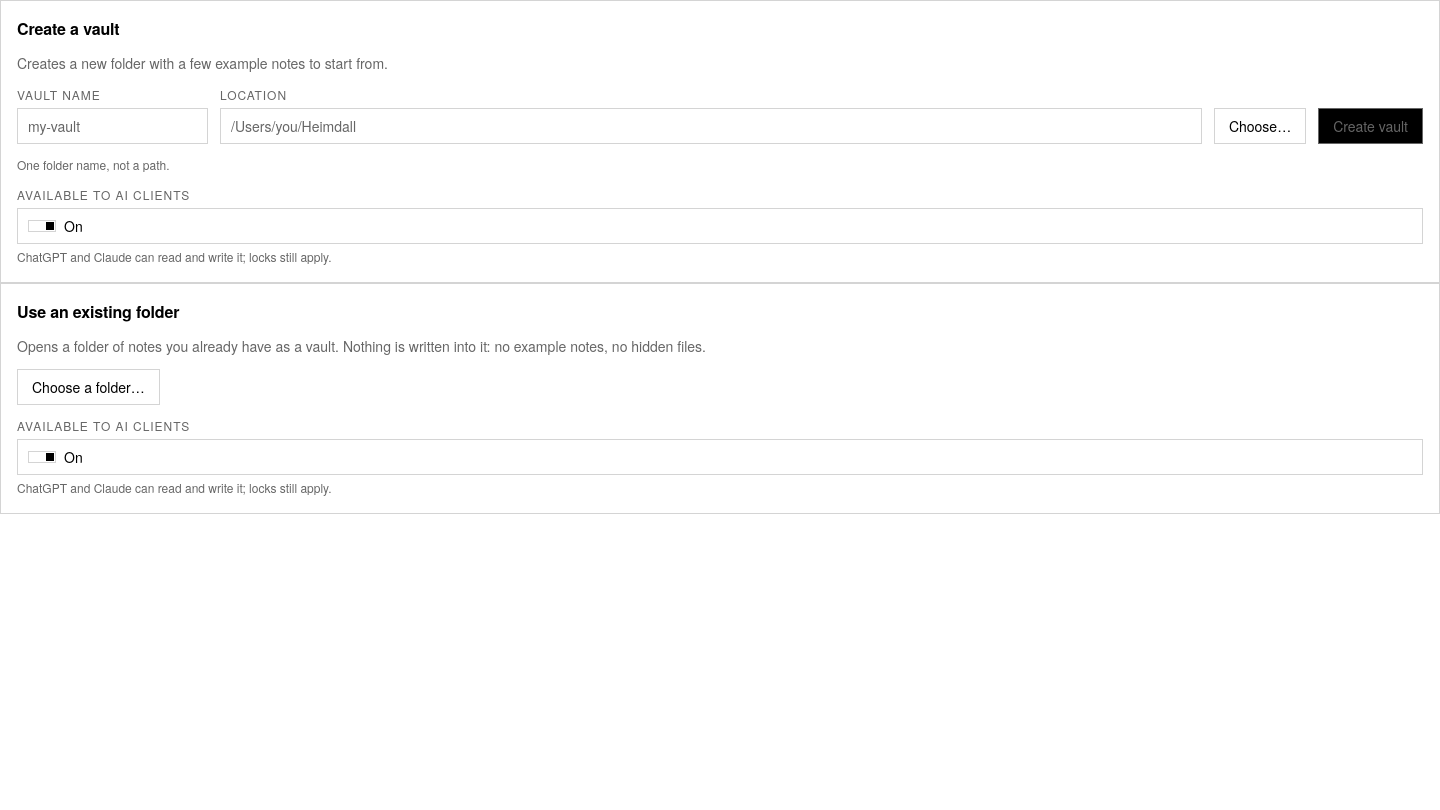
Setup › leaves a new vault unshared when the switch is off
Click the switch named "Available to AI clients": x=42, y=226 [17,208,1423,244]
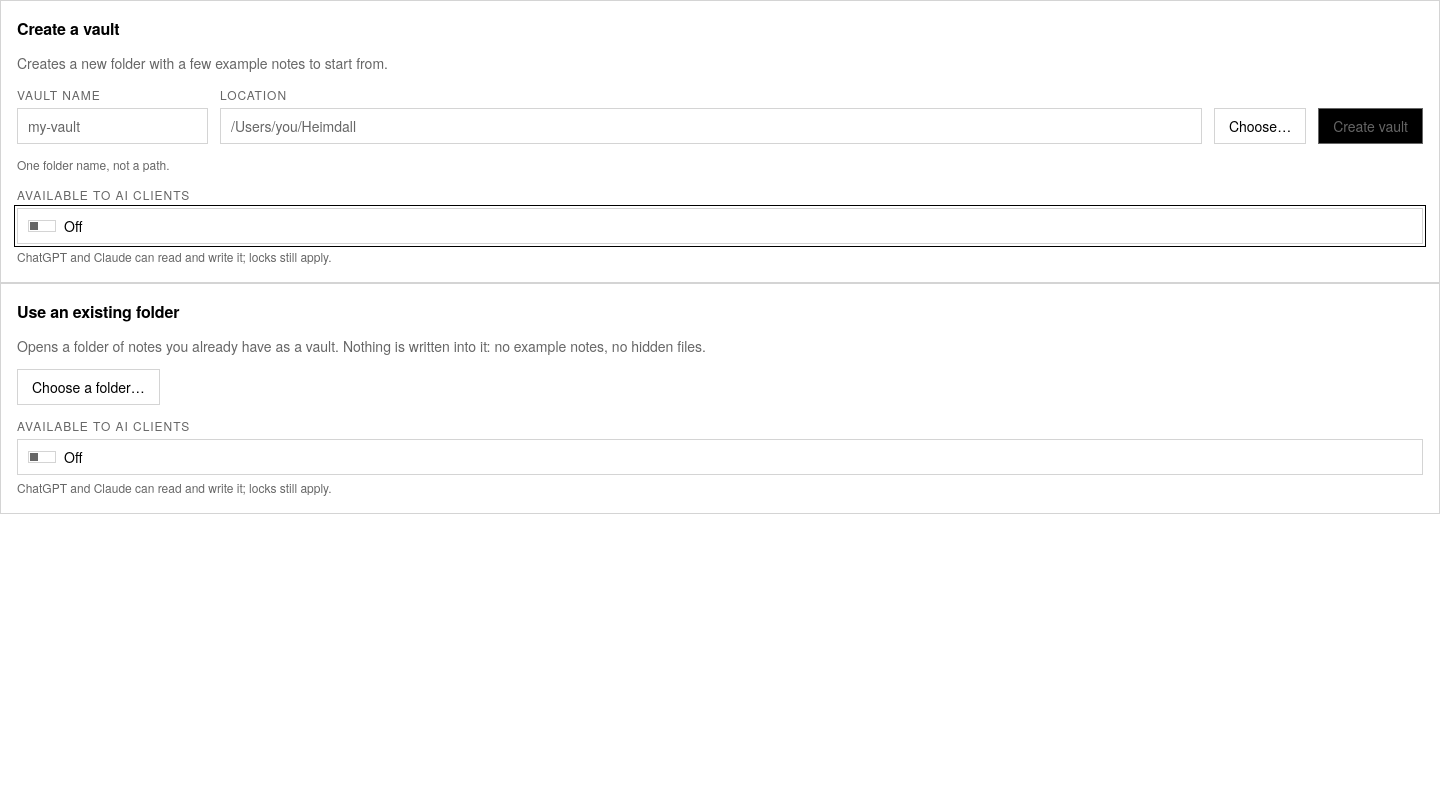
Now the switch named "Available to AI clients" is not checked, box [17,208,1423,244]
In the field labelled "Vault name": x=112, y=126 [17,108,208,144], type "demo"
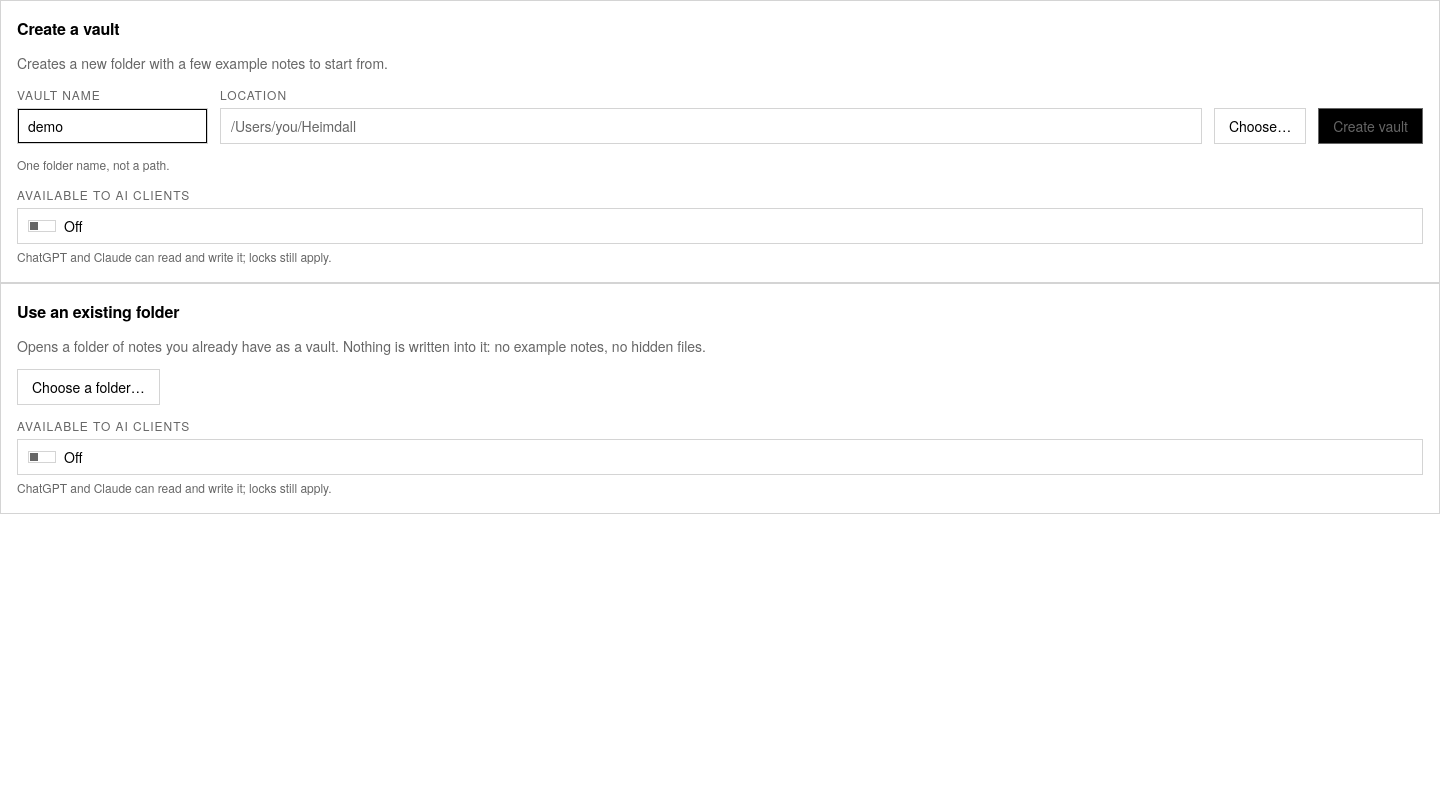
In the field labelled "Location": x=711, y=126 [220,108,1202,144], type "/Users/n"
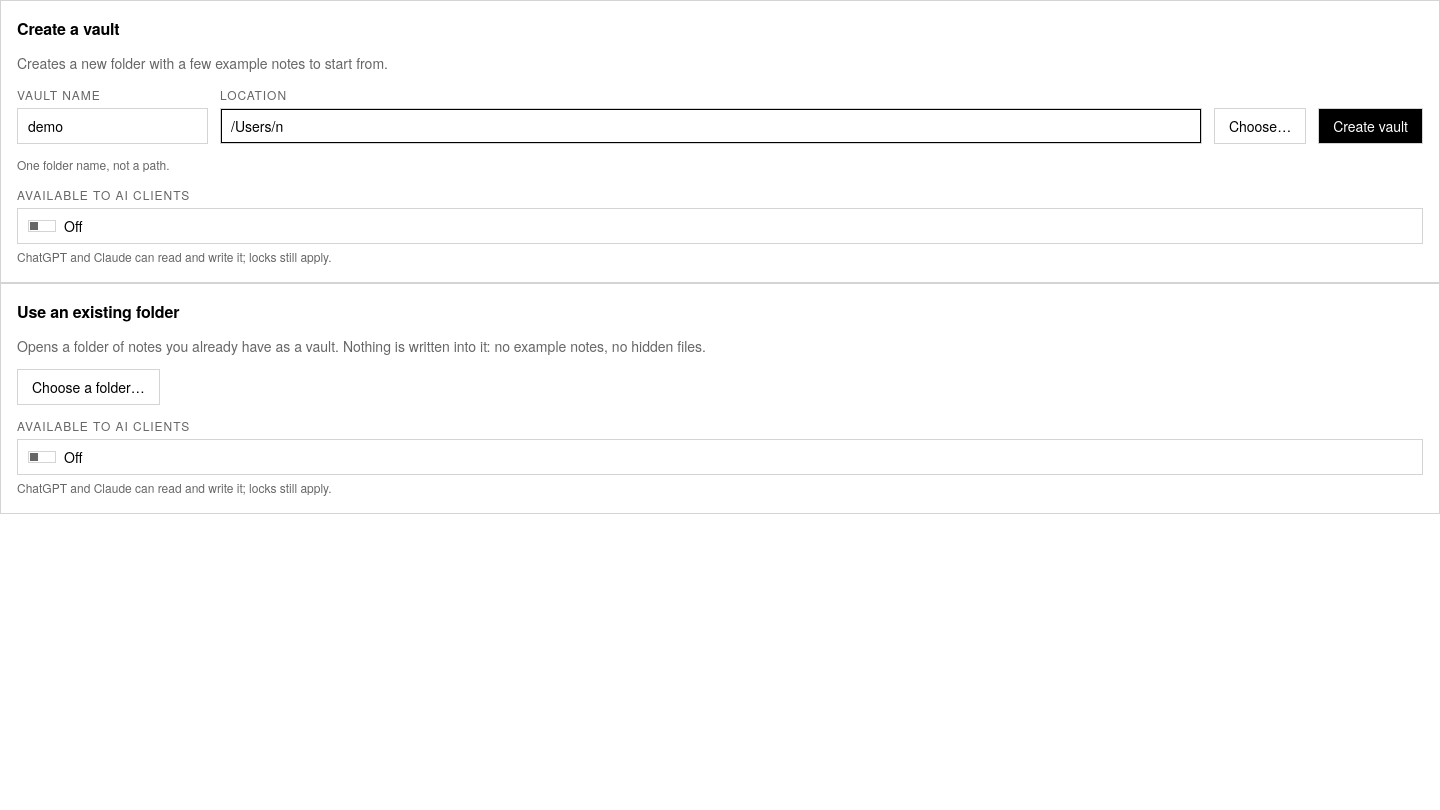
Click the button "Create vault": x=1371, y=126 [1318,108,1423,144]
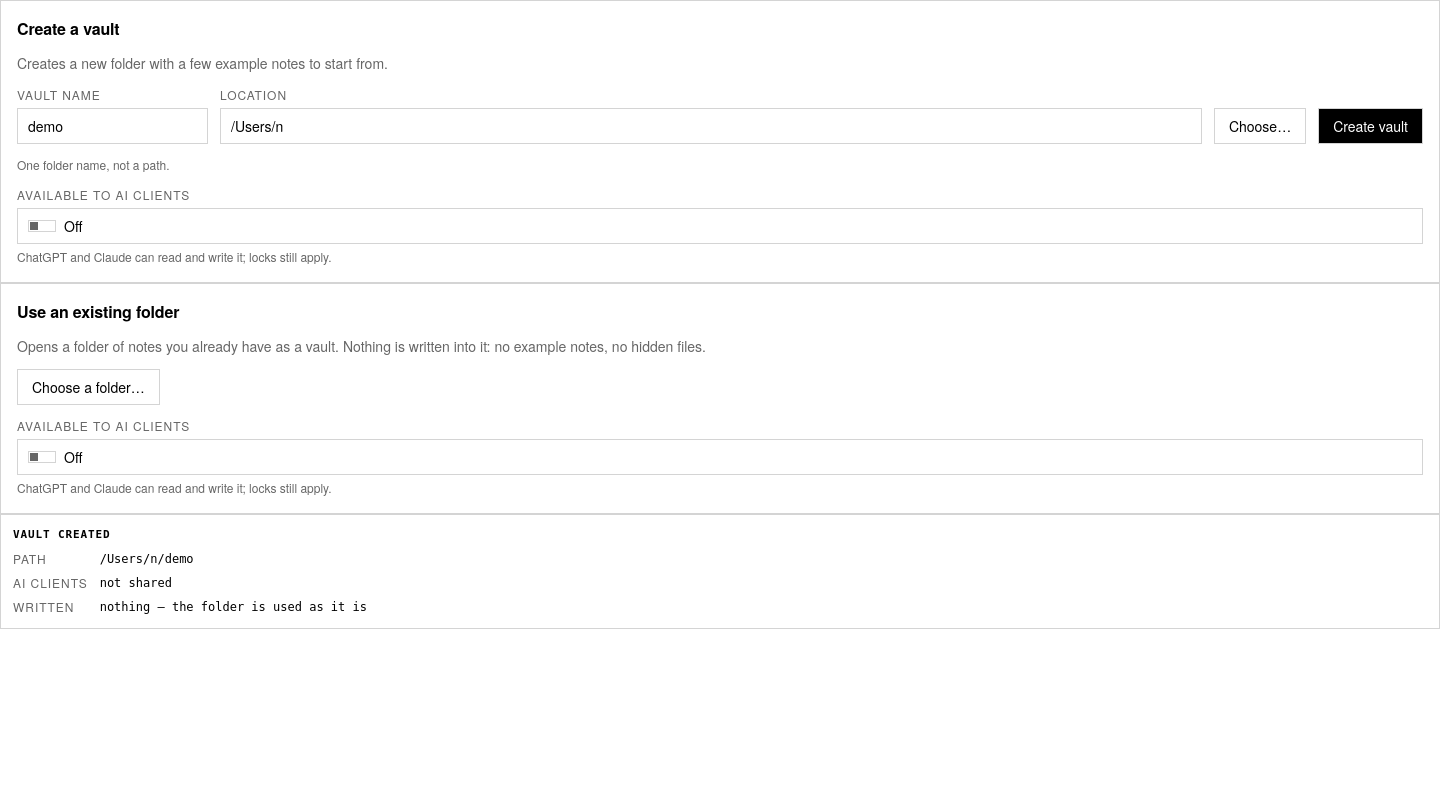
Now the text "Vault created" is shown, box [13,528,110,541]
Now the text "not shared" is shown, box [100,576,172,590]
